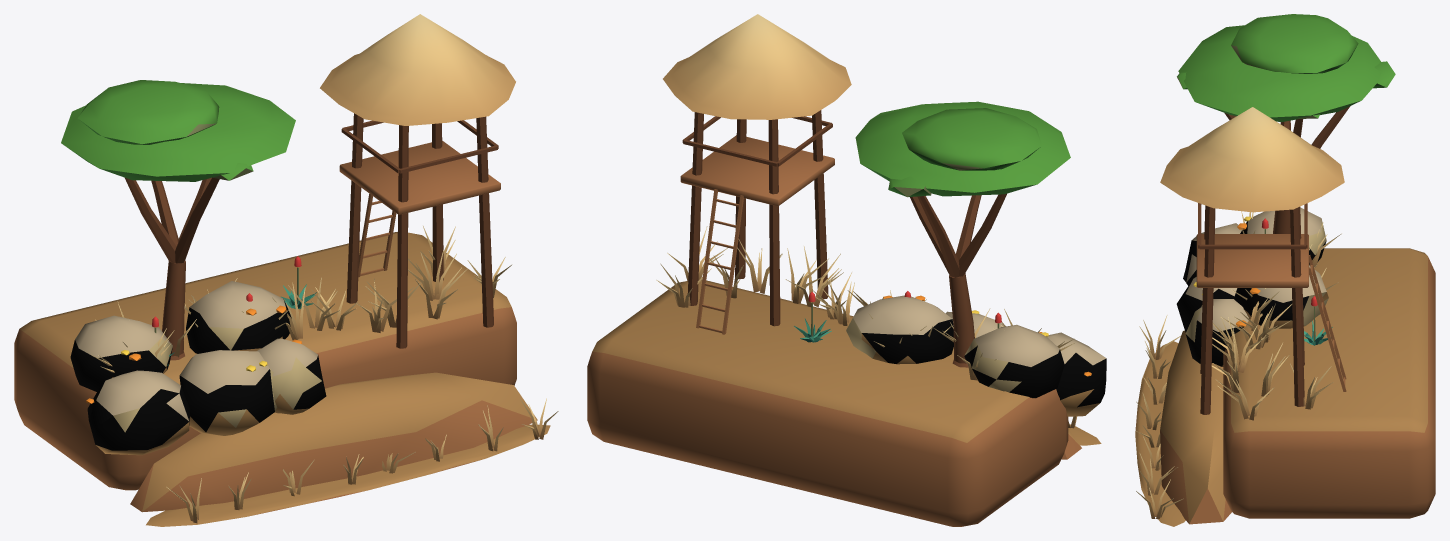
Rendered from SavannaRidgeC.fbx.
3 renders of one model, left to right at view 1: azimuth 30°, elevation 25°; view 2: azimuth 150°, elevation 25°; view 3: azimuth 270°, elevation 25°, orthographic. The views are drawn at different scales.
Visible parts, largest first — view 1: SavannaRidgeC; view 2: SavannaRidgeC; view 3: SavannaRidgeC.
Boxes of the visible parts, bbox=[...] form: SavannaRidgeC: bbox=[14, 14, 558, 526]; SavannaRidgeC: bbox=[587, 14, 1106, 526]; SavannaRidgeC: bbox=[1135, 14, 1435, 526].
Size of the model in its own units: 8.03 by 7.12 by 5.09.
Materials: 1 (1 with a texture image).
